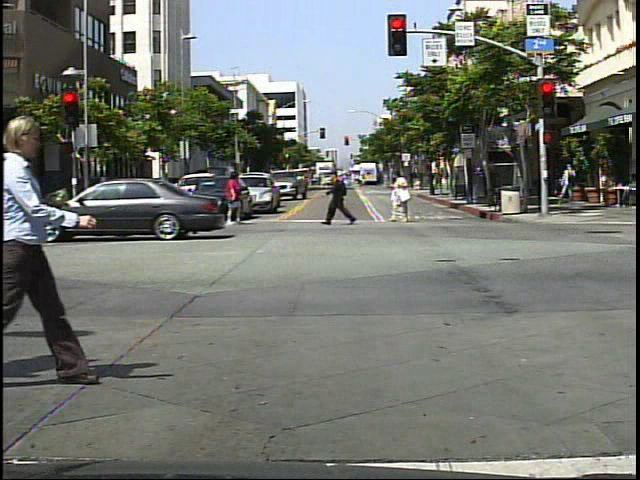person: (328, 159, 361, 231), (385, 163, 417, 227), (217, 167, 250, 227), (559, 160, 578, 203)
